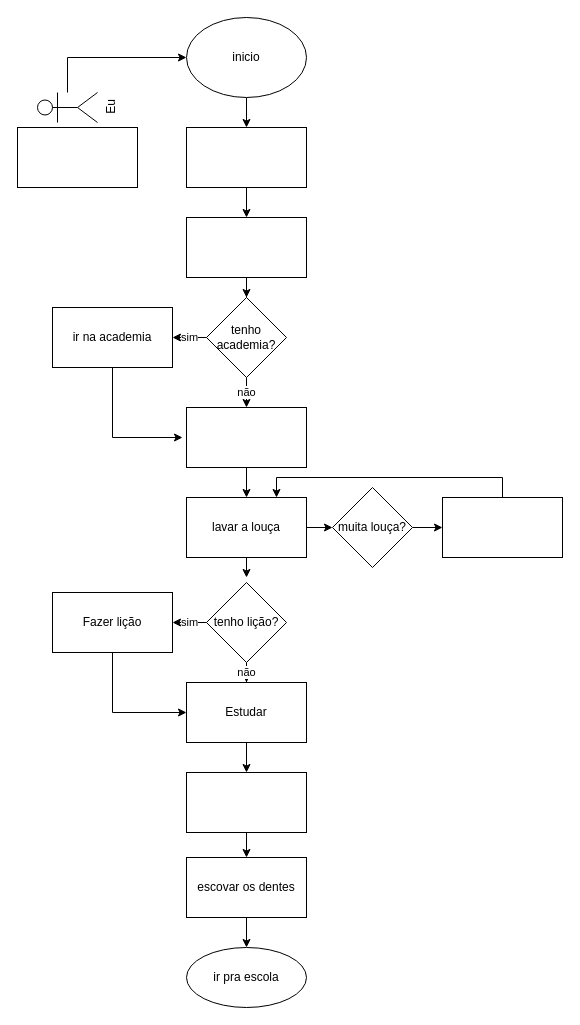
Image size: 580x1025. Some labels were removed from this diagram. The centre of each missing label's shape, as x and y in pixels:
"acordar" belongs at point 246,157.
"arrumar a mesa" belongs at point 246,437.
"cama" belongs at point 77,157.
"chorar" belongs at point 502,527.
"Tomar banho" belongs at point 246,802.
"tomar café da manhã" belongs at point 246,247.
